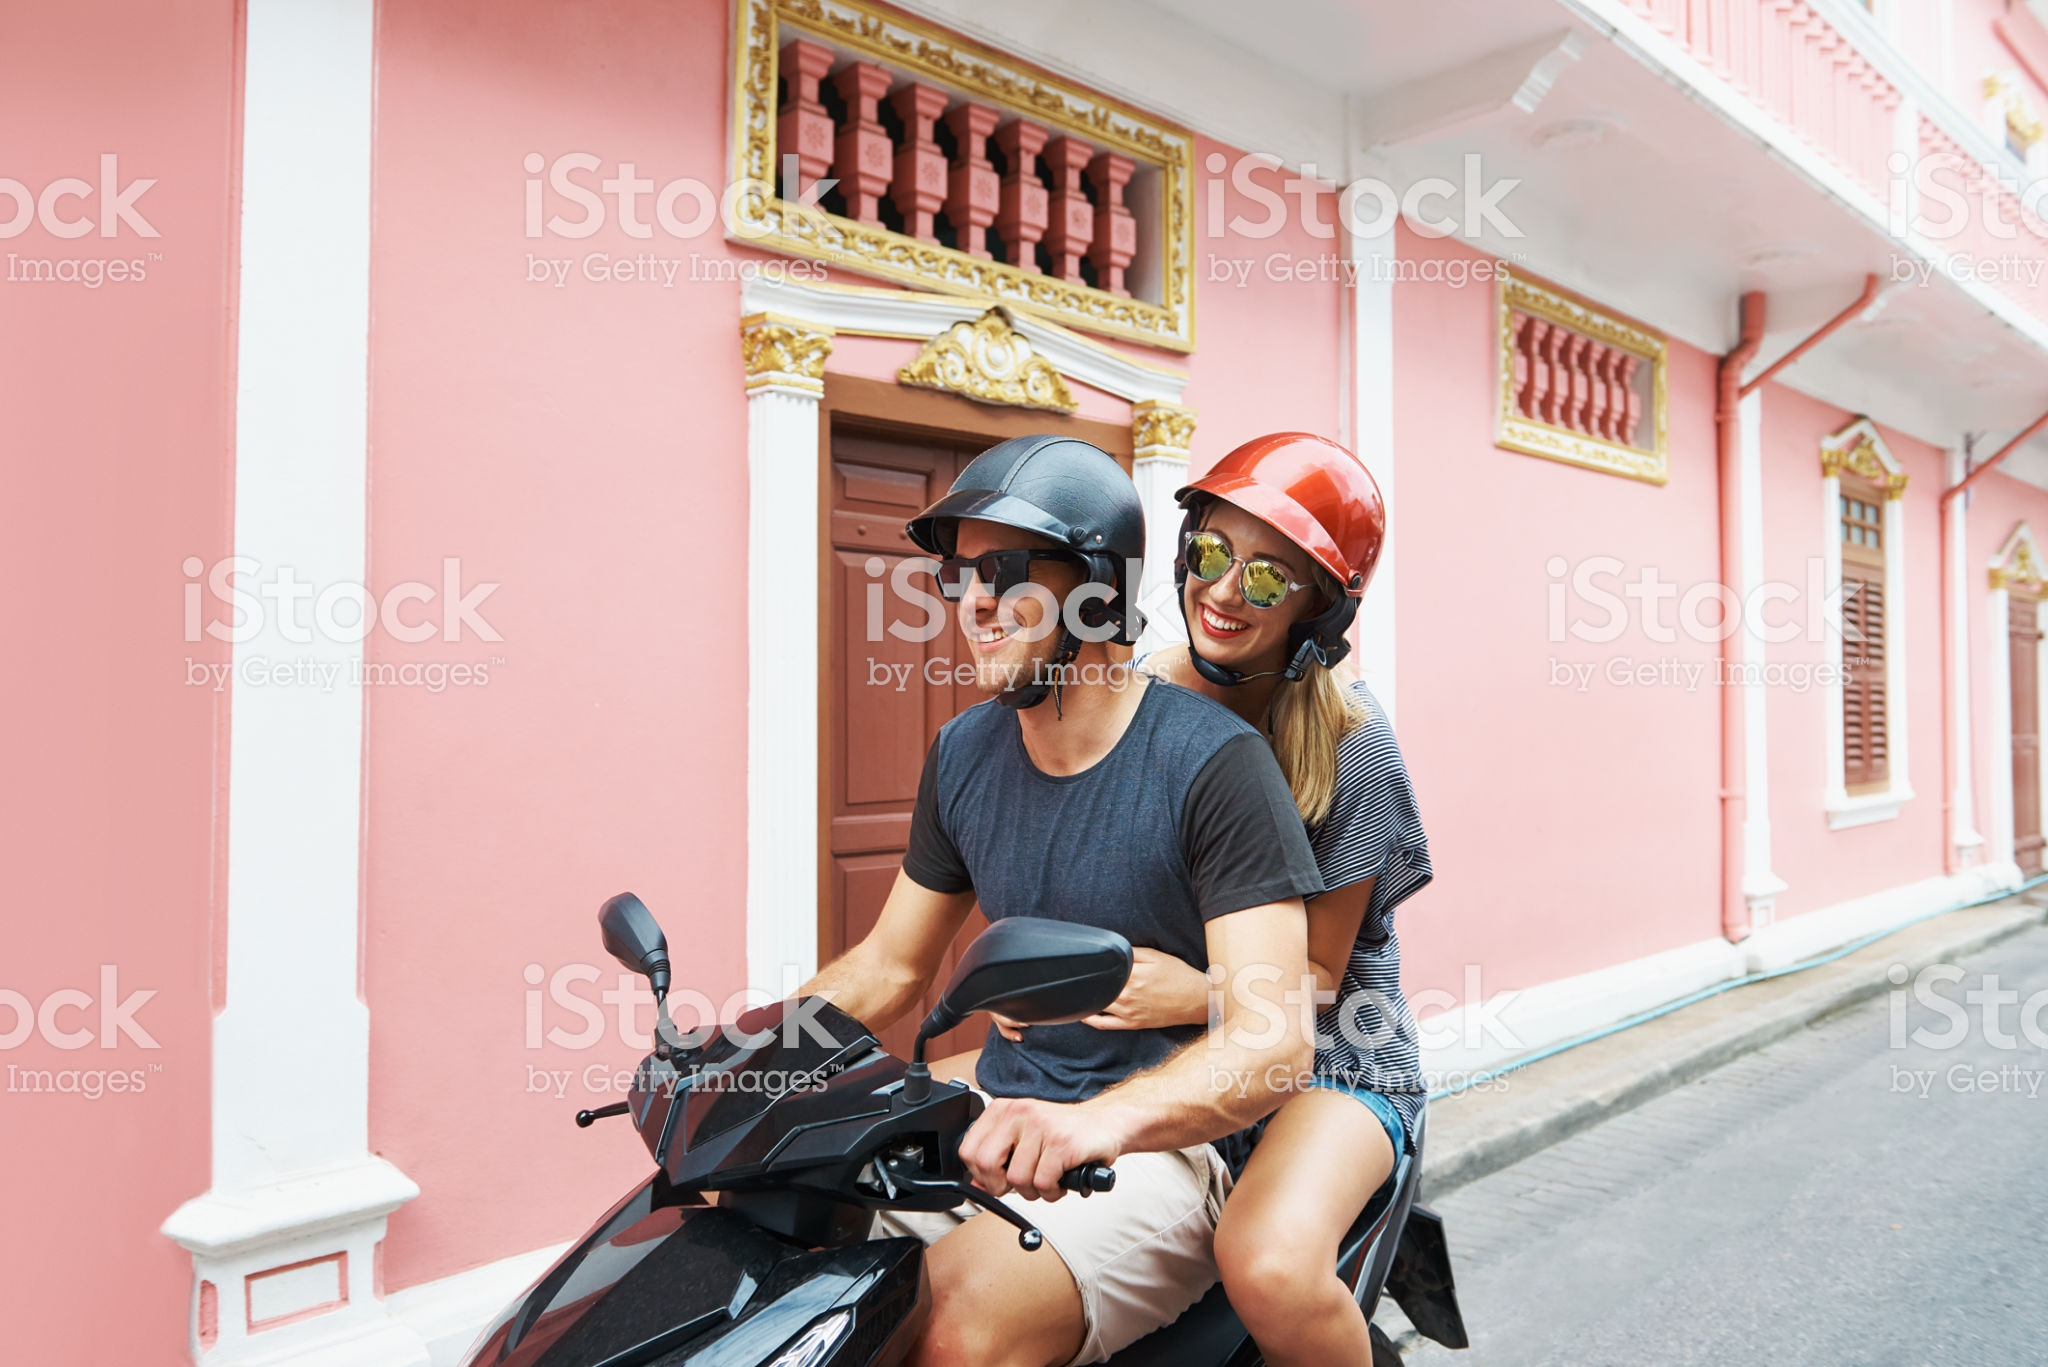helmet: (1194, 430, 1420, 577), (938, 429, 1142, 577)
